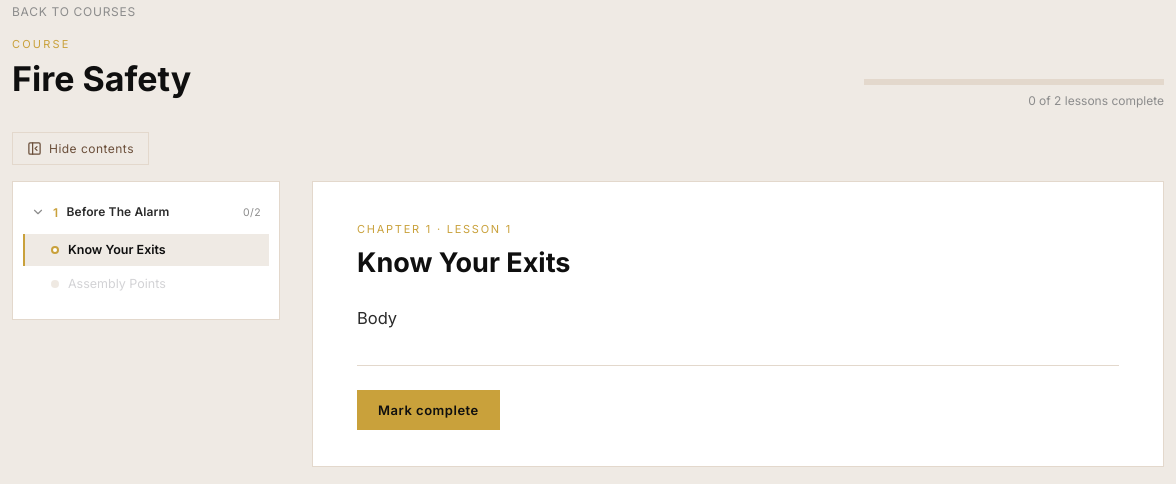
Test case: completing a lesson › records it and advances to the next one
Expected: the heading "Know Your Exits" is shown, [357,246,570,279]
Click the button "Mark complete": point(428, 410) [357,390,500,430]
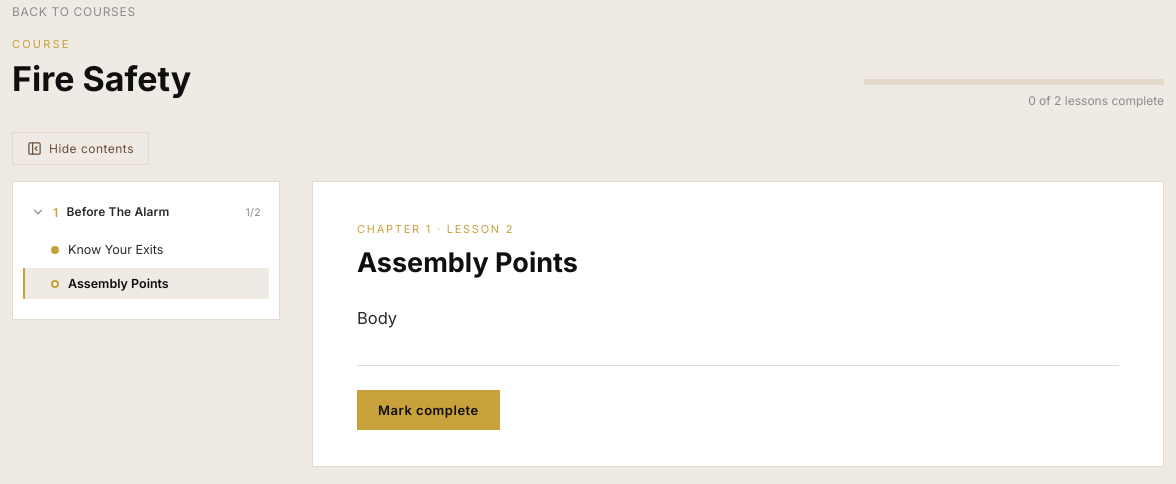
Result: the heading "Assembly Points" is shown at [357,246,578,279]
